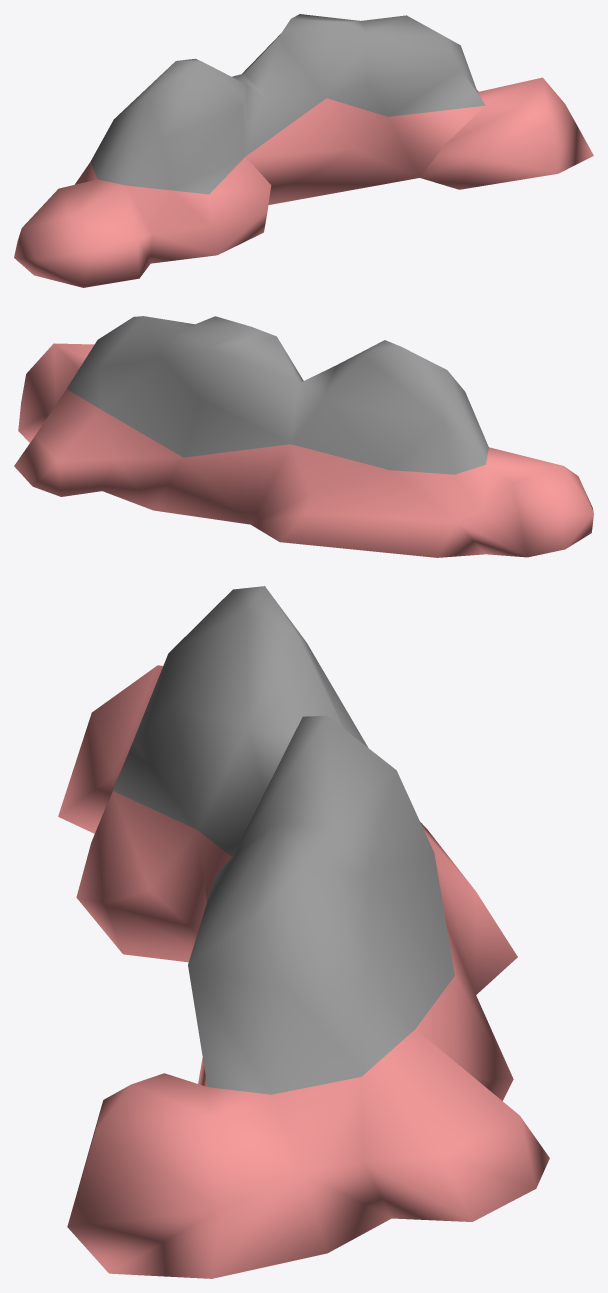
File: deco_oren_stone007.gltf
The picture shows the model from 3 angles, top to bottom: view 1: azimuth 30°, elevation 25°; view 2: azimuth 150°, elevation 25°; view 3: azimuth 270°, elevation 25°; orthographic projection. The views are drawn at different scales.
Visible parts, largest first — view 1: deco_oren_stone007; view 2: deco_oren_stone007; view 3: deco_oren_stone007.
Boxes of the visible parts, x1,y1,x2,y2 form: deco_oren_stone007: (14,14,593,287); deco_oren_stone007: (14,316,593,557); deco_oren_stone007: (58,586,549,1278).
Size of the model in its own units: 2.01 by 0.5556 by 0.78.
